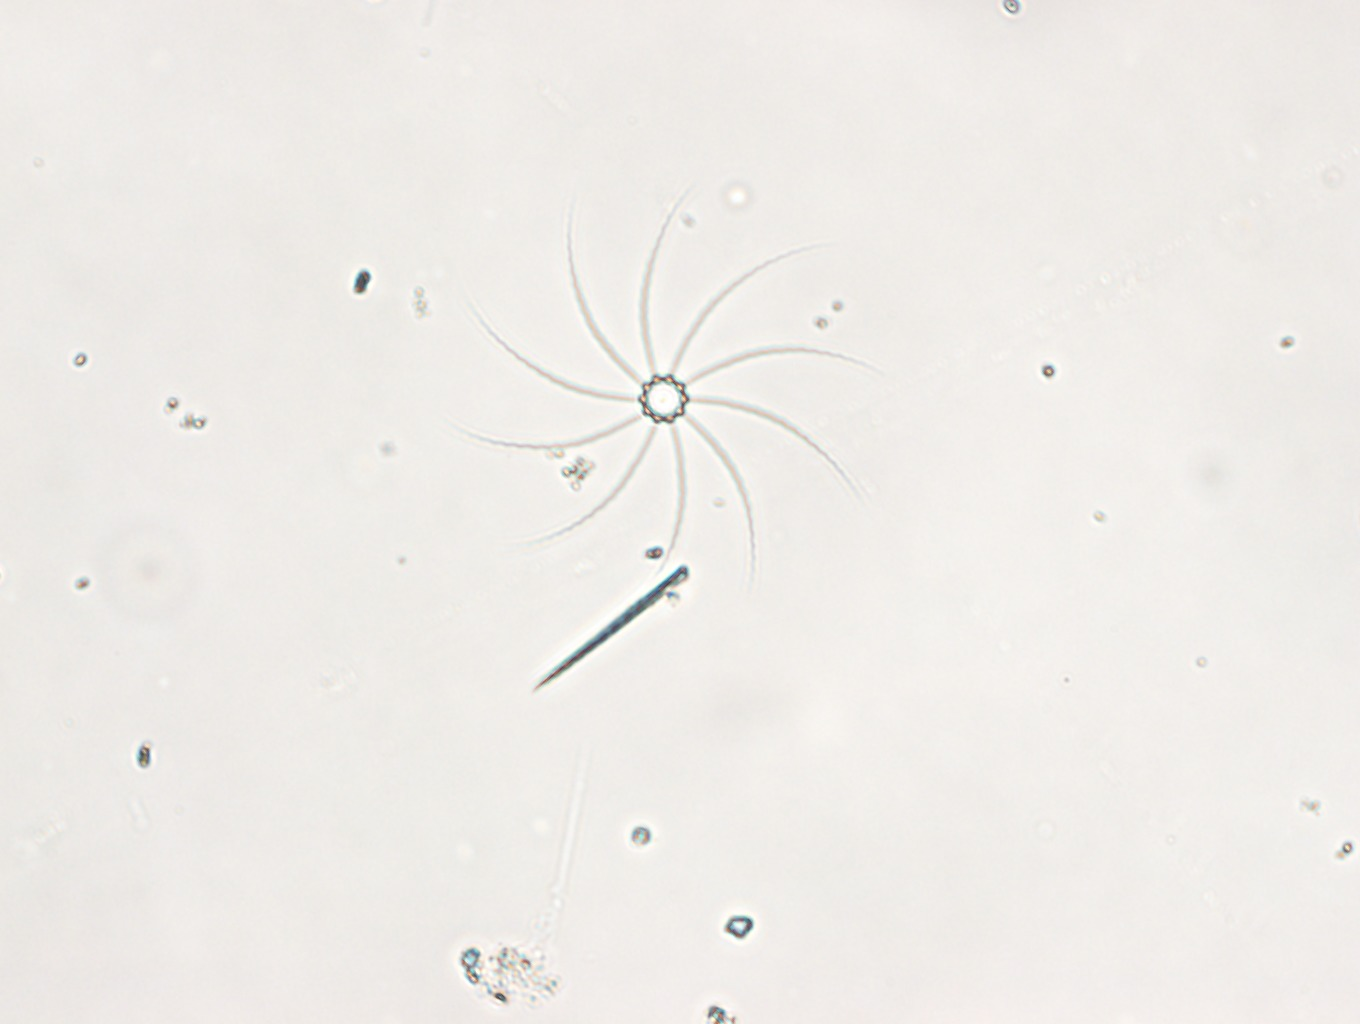bacteriastrum: (444, 183, 890, 586)
